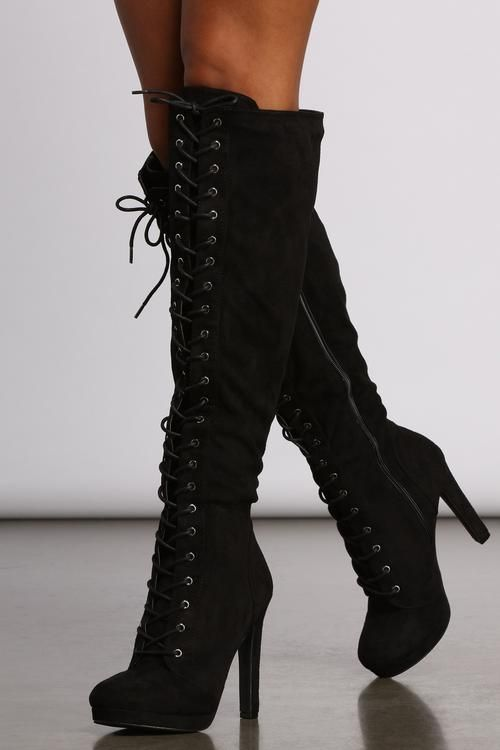gamuza: (90, 87, 451, 734)
